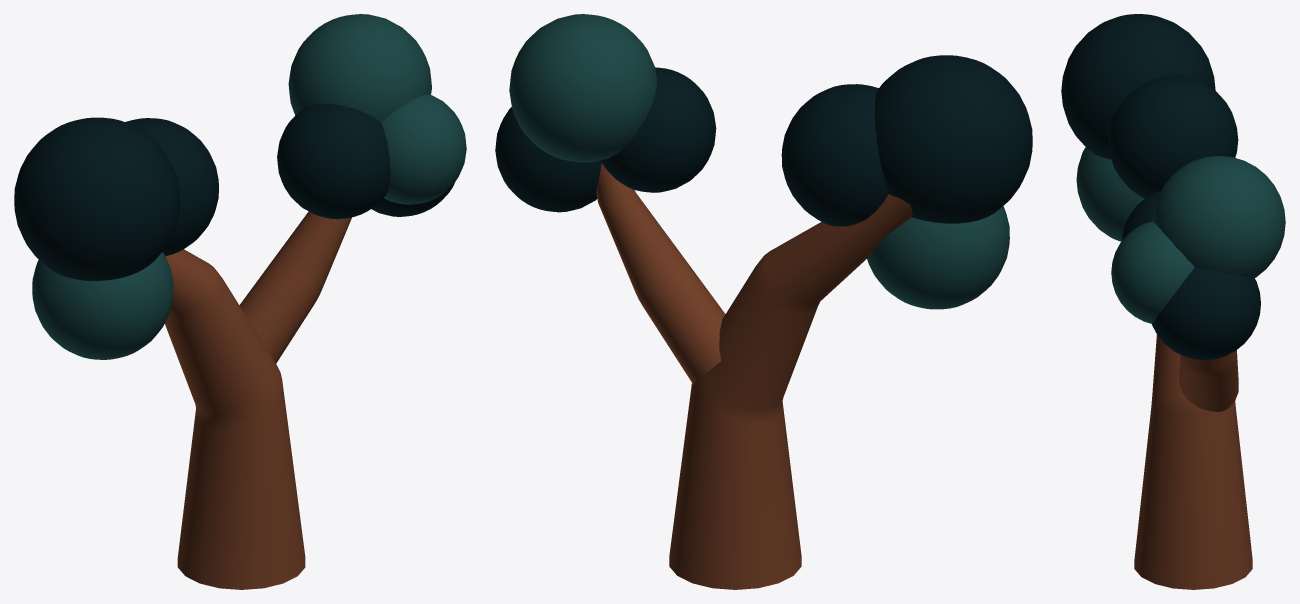
File: vegetation_02 1.fbx
The picture shows the model from 3 angles, left to right: view 1: azimuth 30°, elevation 25°; view 2: azimuth 150°, elevation 25°; view 3: azimuth 270°, elevation 25°; orthographic projection. The views are drawn at different scales.
Visible parts, largest first — view 1: Cylinder007, Sphere030, Sphere034, Sphere033, Sphere031, Cylinder008, Sphere032, Sphere029, Sphere035; view 2: Cylinder007, Sphere030, Sphere034, Sphere029, Cylinder008, Sphere031, Sphere033, Sphere035; view 3: Cylinder007, Sphere034, Sphere030, Sphere029, Sphere035, Sphere032, Sphere031, Cylinder008, Sphere033.
Boxes of the visible parts, bbox=[...] form: Cylinder007: bbox=[164, 249, 305, 589]; Sphere030: bbox=[14, 117, 179, 280]; Sphere034: bbox=[288, 14, 431, 121]; Sphere033: bbox=[277, 104, 390, 219]; Sphere031: bbox=[32, 252, 173, 359]; Cylinder008: bbox=[239, 211, 351, 363]; Sphere032: bbox=[381, 94, 466, 204]; Sphere029: bbox=[125, 118, 218, 256]; Sphere035: bbox=[371, 182, 454, 216]; Cylinder007: bbox=[669, 194, 912, 589]; Sphere030: bbox=[874, 55, 1032, 223]; Sphere034: bbox=[509, 14, 657, 162]; Sphere029: bbox=[781, 84, 888, 226]; Cylinder008: bbox=[596, 163, 725, 384]; Sphere031: bbox=[867, 206, 1009, 309]; Sphere033: bbox=[600, 67, 716, 192]; Sphere035: bbox=[495, 107, 601, 212]; Cylinder007: bbox=[1134, 335, 1252, 589]; Sphere034: bbox=[1153, 155, 1285, 278]; Sphere030: bbox=[1061, 14, 1215, 159]; Sphere029: bbox=[1108, 75, 1238, 198]; Sphere035: bbox=[1152, 267, 1260, 360]; Sphere032: bbox=[1111, 221, 1194, 323]; Sphere031: bbox=[1076, 147, 1144, 241]; Cylinder008: bbox=[1179, 350, 1238, 411]; Sphere033: bbox=[1122, 191, 1160, 240].
Size of the model in its own units: 248 by 256 by 112.
